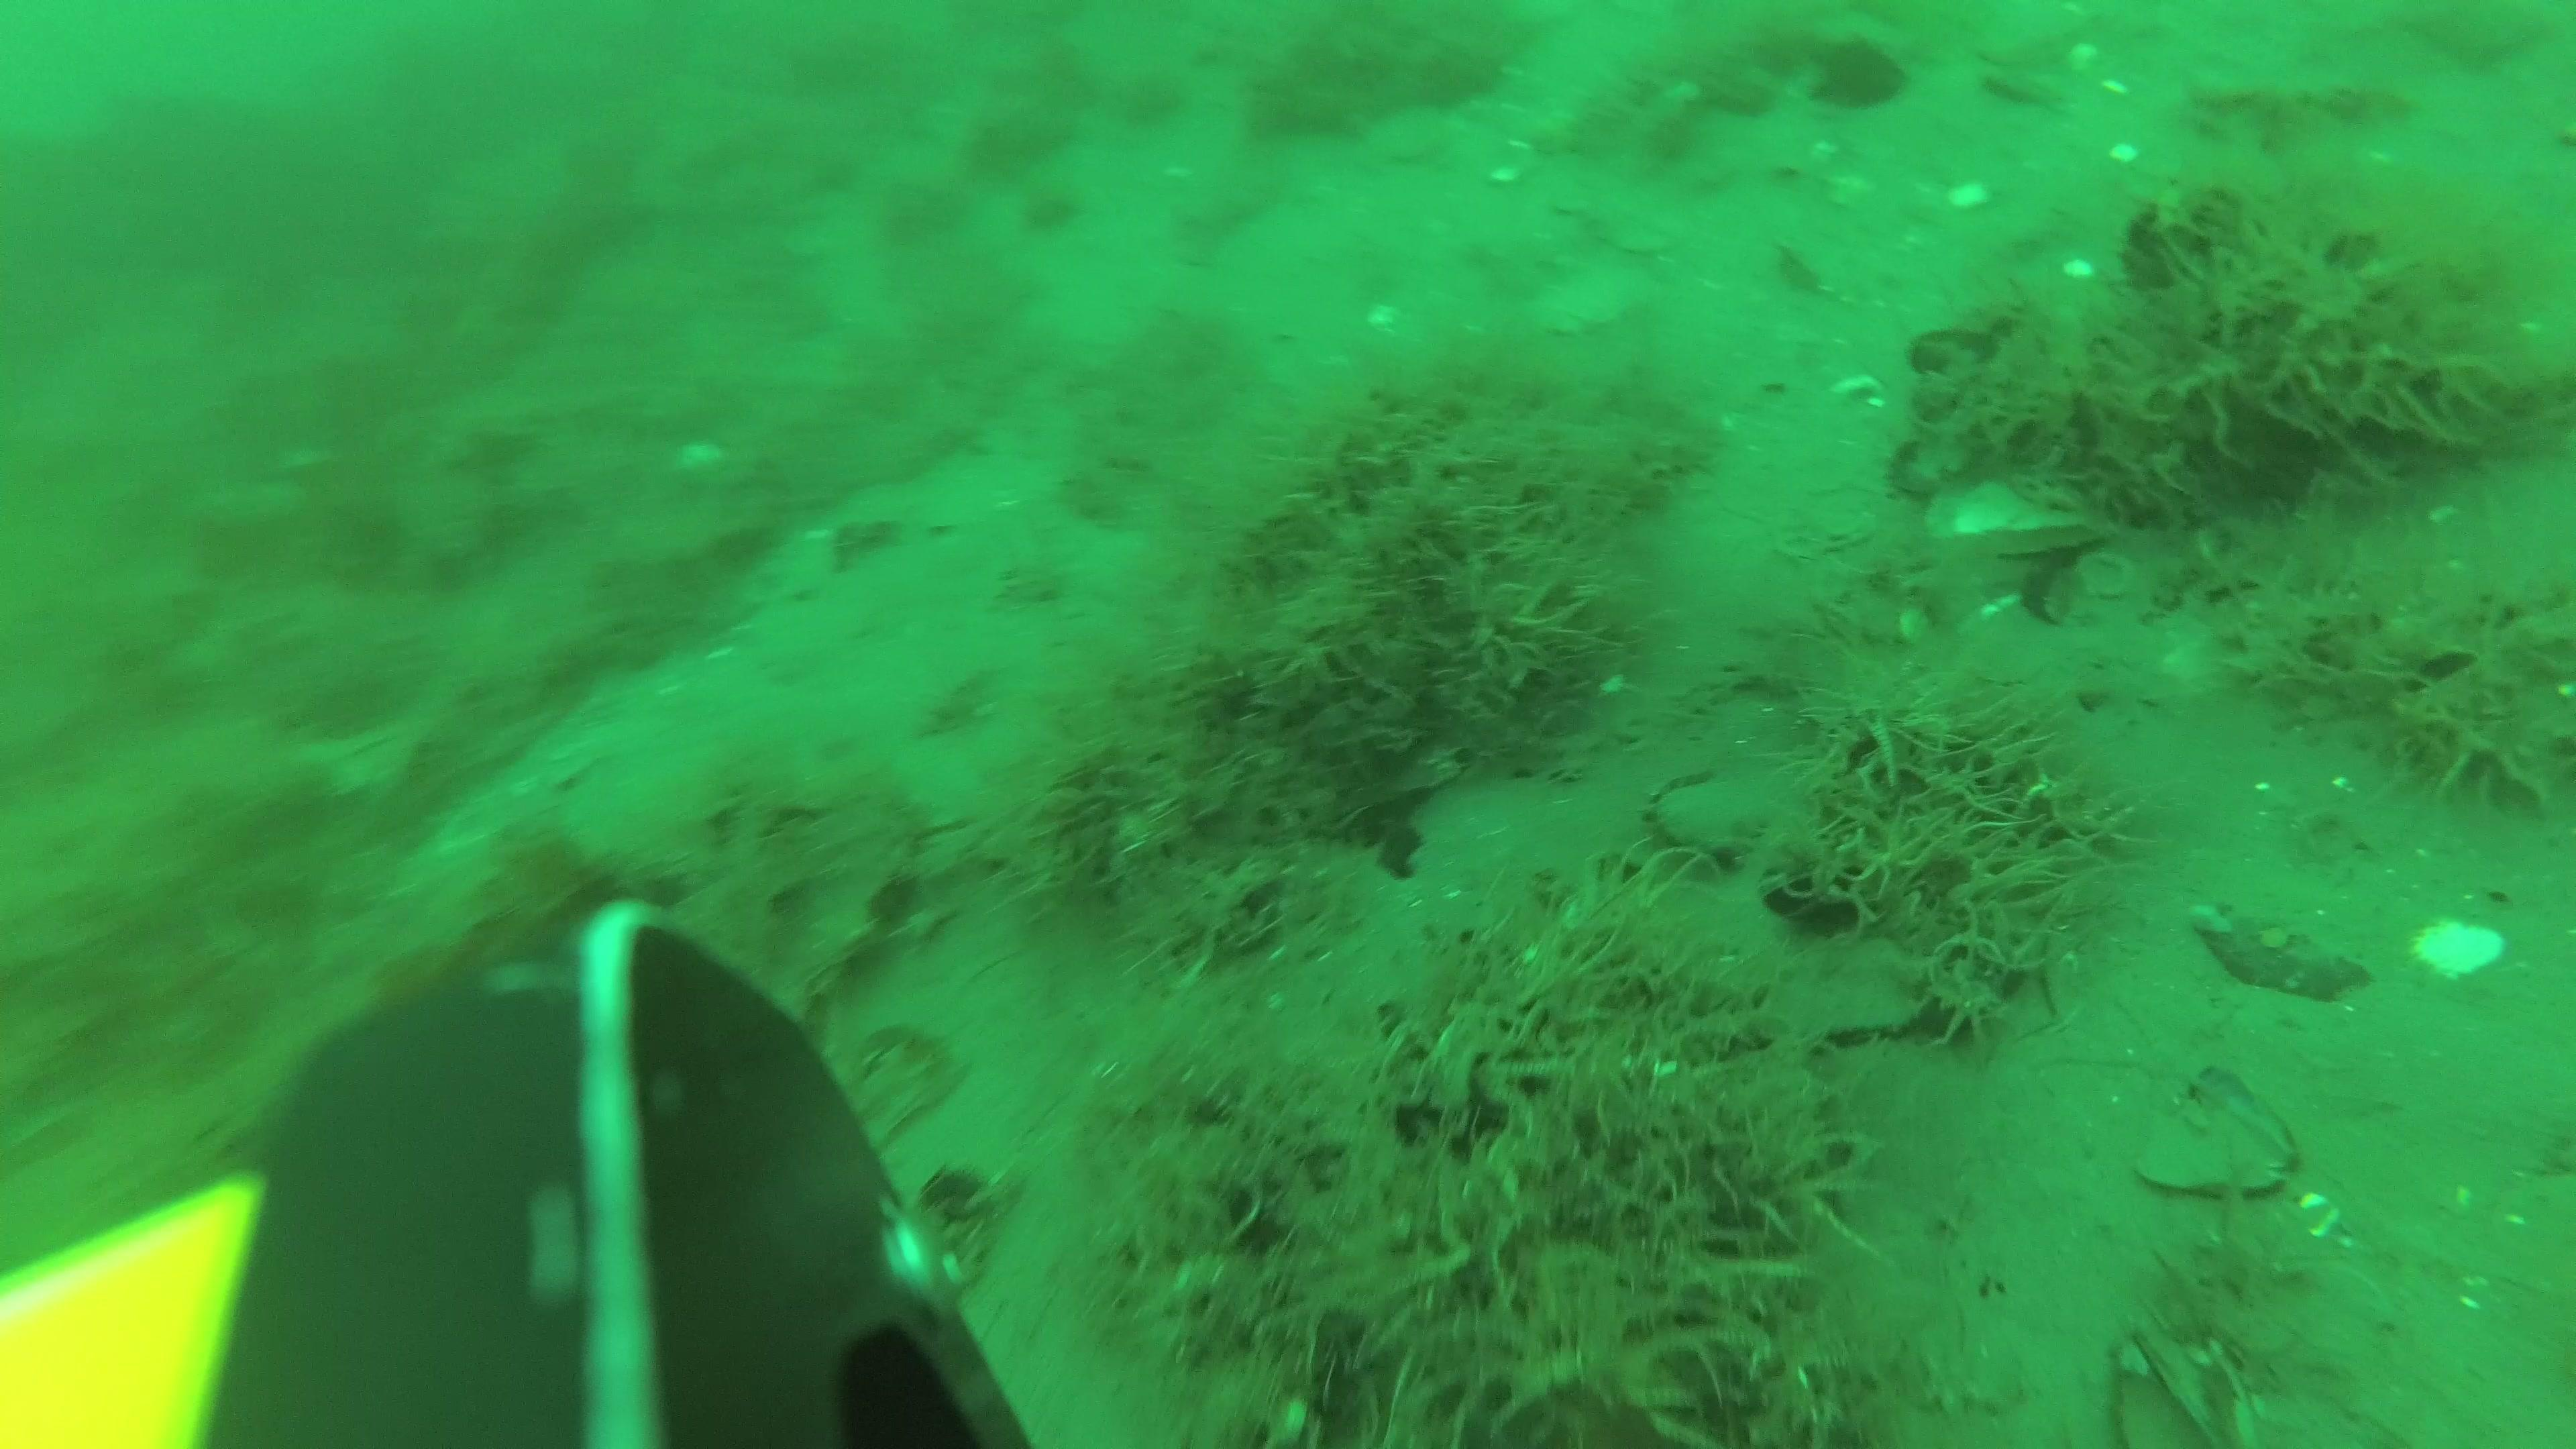scallop: (1534, 265, 1649, 336), (1362, 103, 1461, 163), (1606, 203, 1691, 253)
